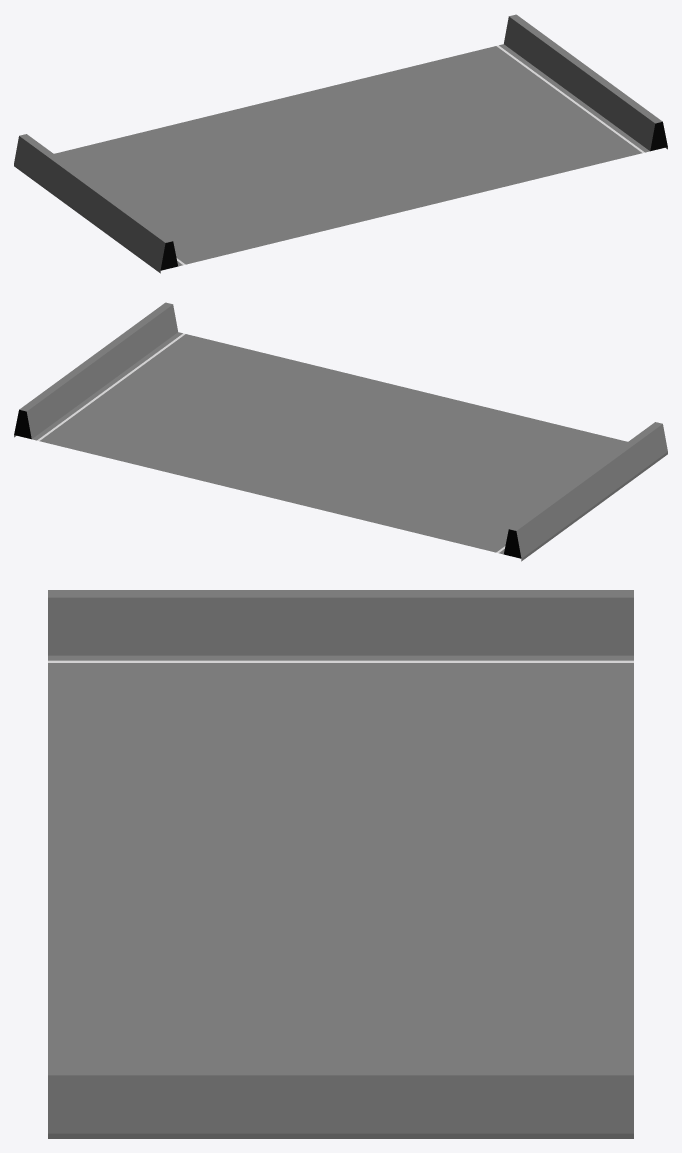
File: Motorway.fbx
3 renders of one model, top to bottom at view 1: azimuth 30°, elevation 25°; view 2: azimuth 150°, elevation 25°; view 3: azimuth 270°, elevation 25°, orthographic. The views are drawn at different scales.
Visible parts, largest first — view 1: Plane; view 2: Plane; view 3: Plane.
Part boxes in pixels (bbox=[...]): Plane: bbox=[14, 14, 667, 273]; Plane: bbox=[14, 302, 667, 561]; Plane: bbox=[48, 590, 633, 1138].
Bounding box in the file's own units: 20 × 1.1 × 10.
